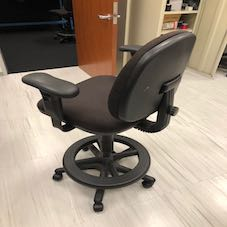chair: (9, 5, 211, 215), (9, 5, 85, 95)
